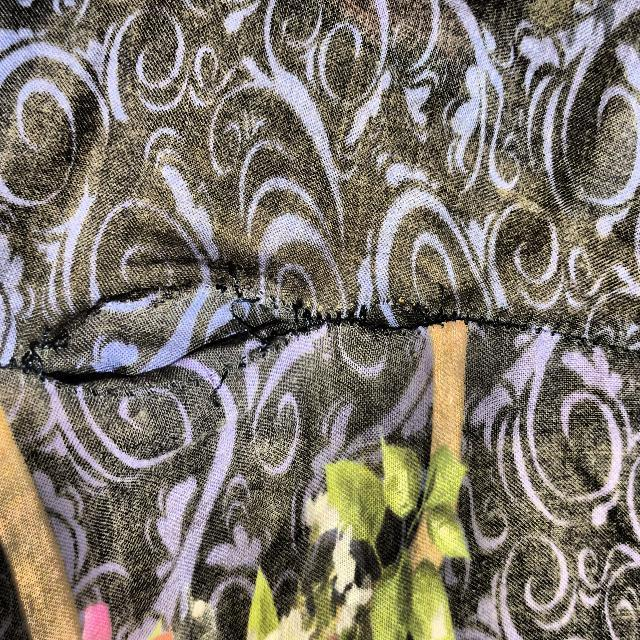gray stitch: (5, 255, 499, 423)
